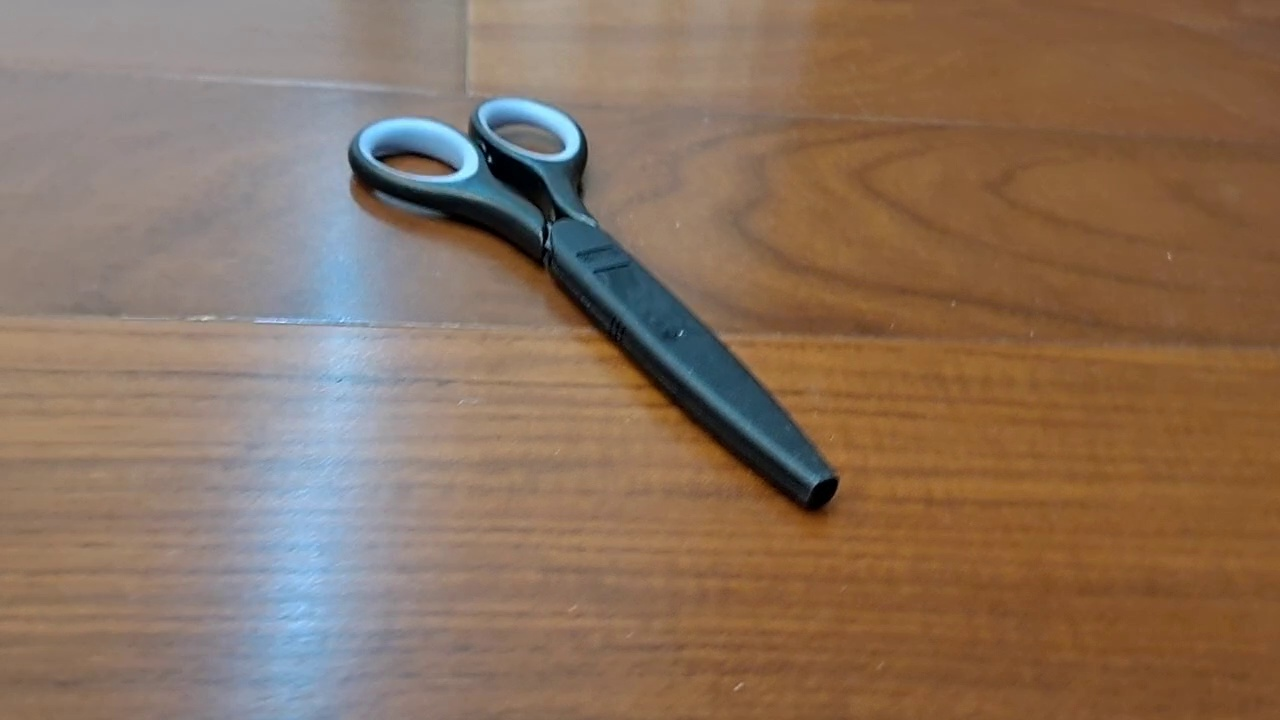scissors: (348, 95, 839, 513)
